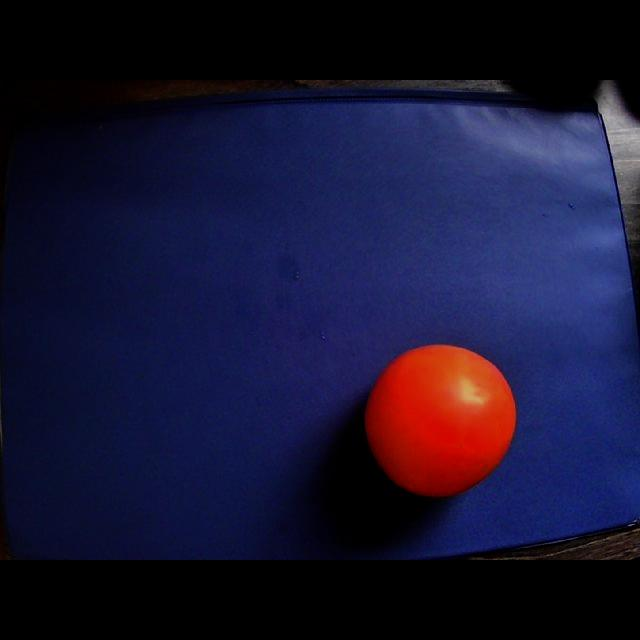tomate: (365, 345, 515, 496)
